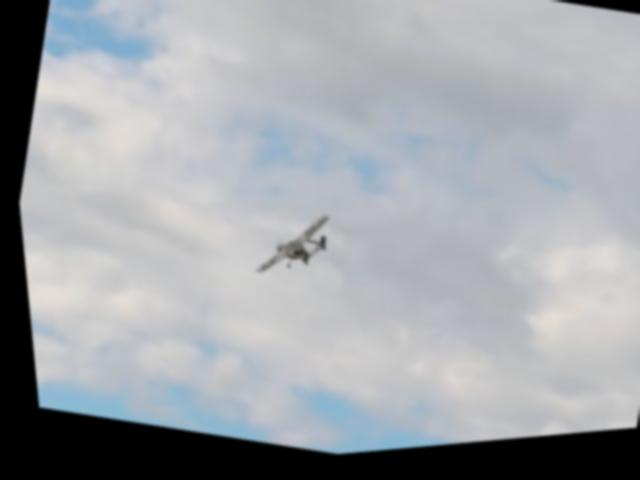uav: (243, 200, 334, 294)
